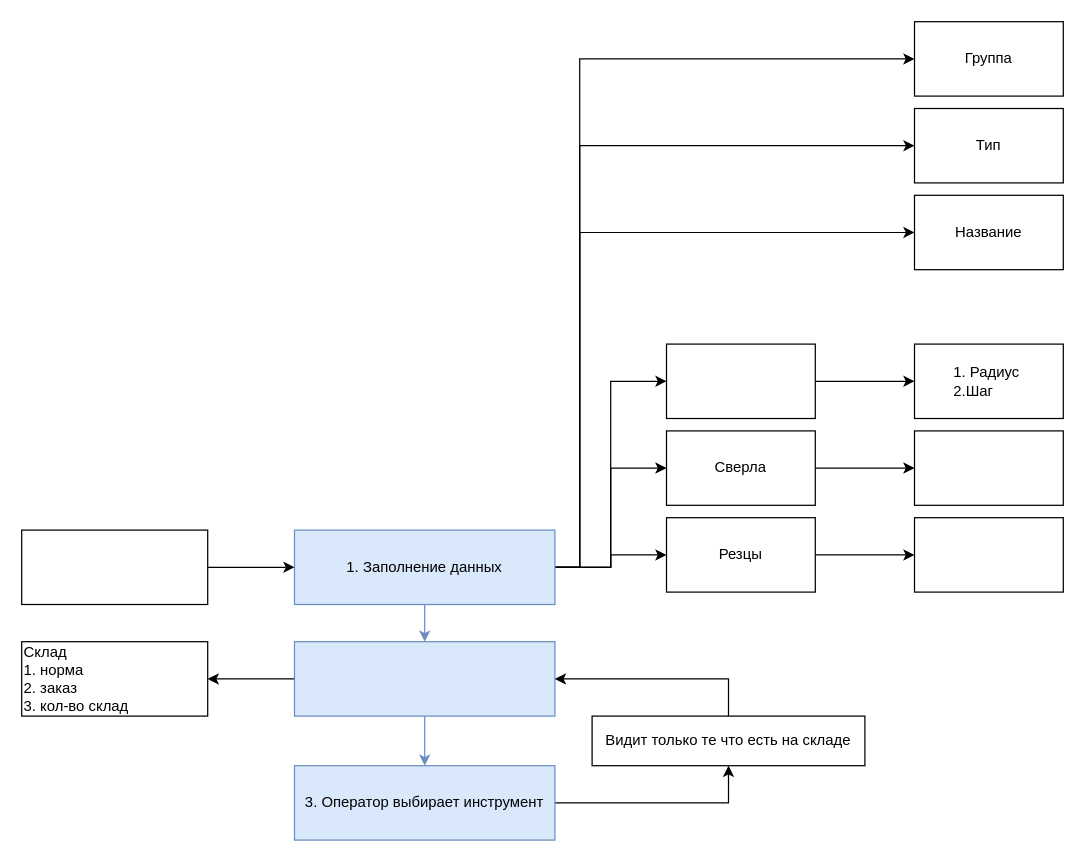
The diagram is 1085 pixels wide and 862 high, and some of its shapes have lost their labels. Each missing label, with the centre of its shape:
"1. Габариты 2. Диаметр" belongs at (x=988, y=467).
"1.Вылет" belongs at (x=988, y=554).
"2. Приход на склад" belongs at (x=424, y=678).
"Интерфейс Хохлова" belongs at (x=114, y=566).
"Пластины" belongs at (x=740, y=380).
